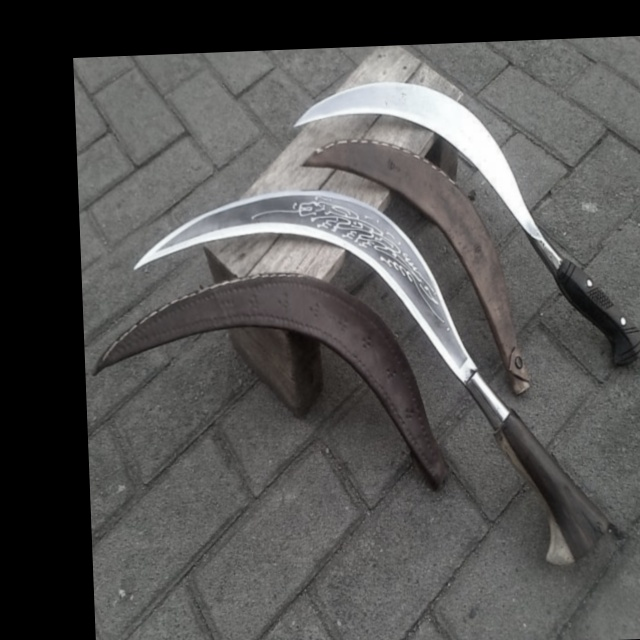Sharp-Object: (129, 171, 637, 595), (297, 36, 640, 382)
